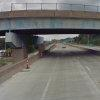Bridge: (2, 4, 99, 53)
